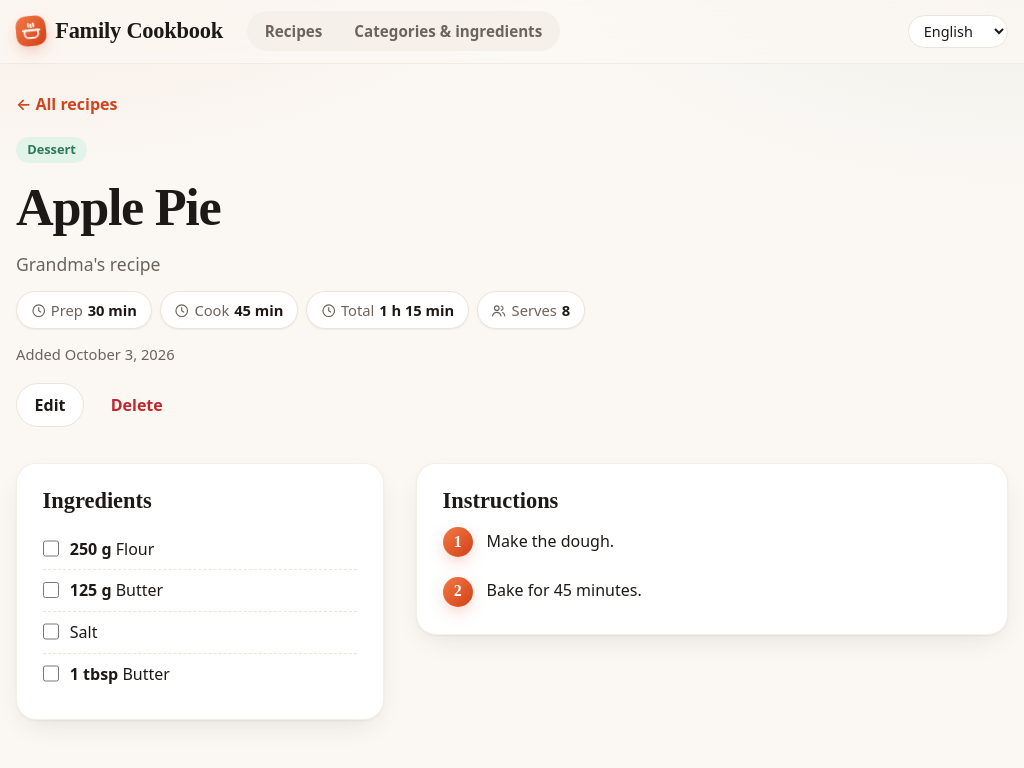
Test: RecipeDetailPage › deletes the recipe after confirmation and returns to the list
Check: the heading "Apple Pie" is shown, box [16,178,220,236]
What coordinates should you click on to do the following:
click the button "Delete"
I would click on:
 (137, 405)
Its box is [92,383,181,428].
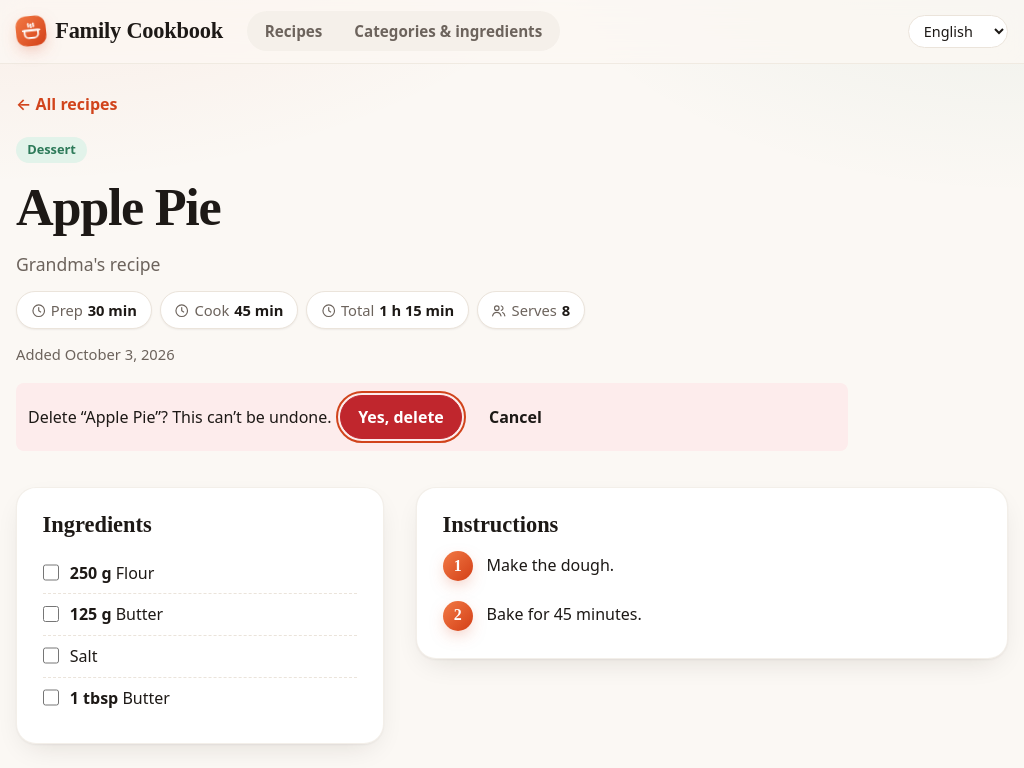
Check: the element named "Confirm delete" shows "Delete “Apple Pie”? This can’t be undone.", box [28,406,332,428]
What coordinates should you click on to do the following:
click the button "Yes, delete"
I would click on:
 (401, 417)
Its box is [340,395,462,440].
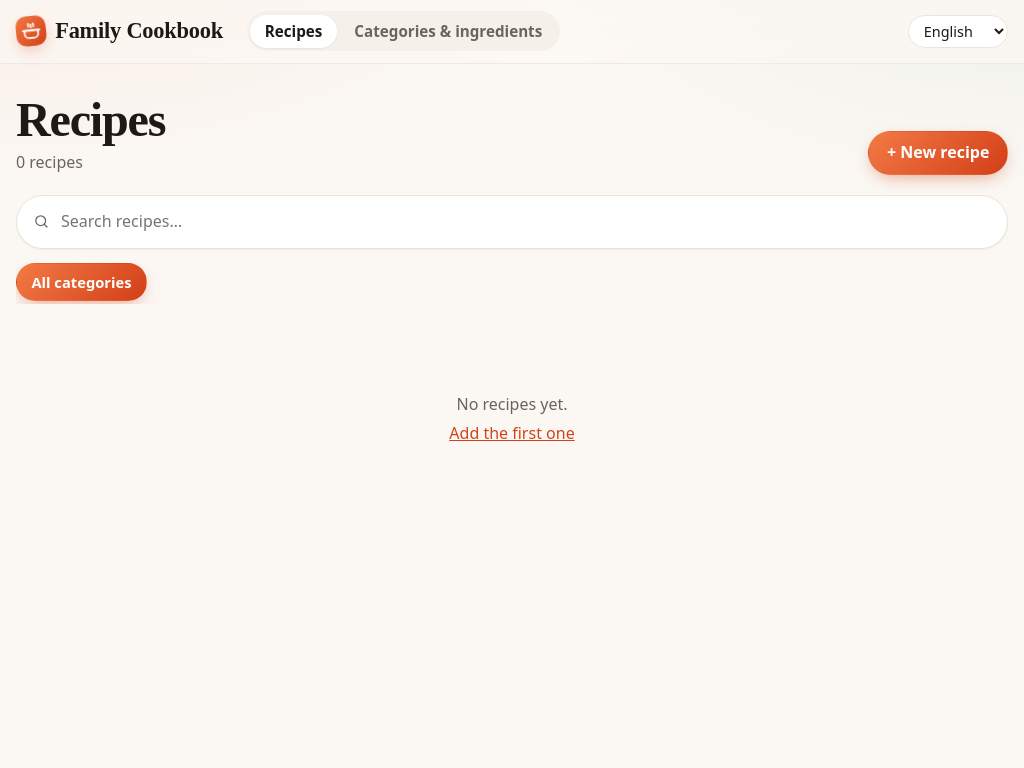
Check: the heading "Recipes" is shown, box [16,92,165,147]
